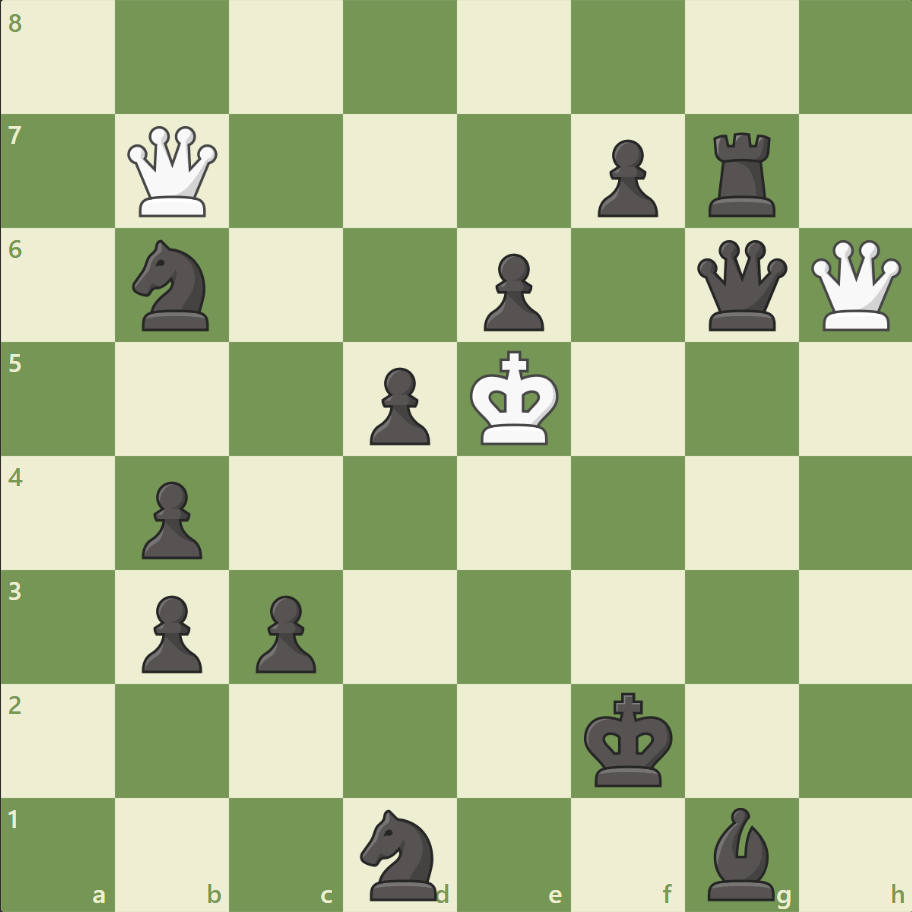K: (465, 344, 565, 452)
Q: (124, 122, 223, 222), (805, 236, 904, 335)
b: (698, 801, 782, 904)
k: (579, 685, 679, 793)
n: (124, 234, 222, 337), (351, 802, 449, 904)
p: (474, 246, 549, 337), (133, 473, 208, 564), (133, 586, 208, 677), (247, 586, 322, 677), (588, 132, 662, 223), (361, 359, 435, 450)
q: (691, 236, 790, 335)
r: (700, 125, 783, 222)
